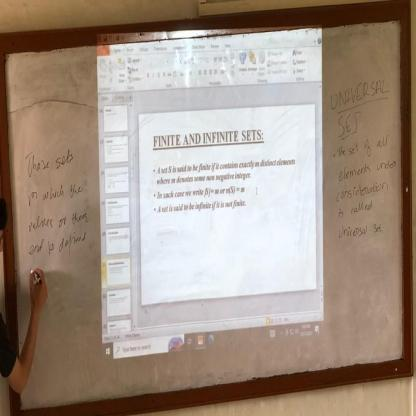Handwritten text: (322, 66, 400, 114), (16, 131, 84, 181), (20, 199, 98, 238), (21, 172, 90, 211), (21, 227, 95, 261), (331, 152, 402, 185), (333, 128, 396, 162), (331, 174, 397, 204), (335, 216, 389, 241), (332, 197, 380, 221), (336, 107, 368, 136)
Whiteboard: (2, 13, 406, 412)
